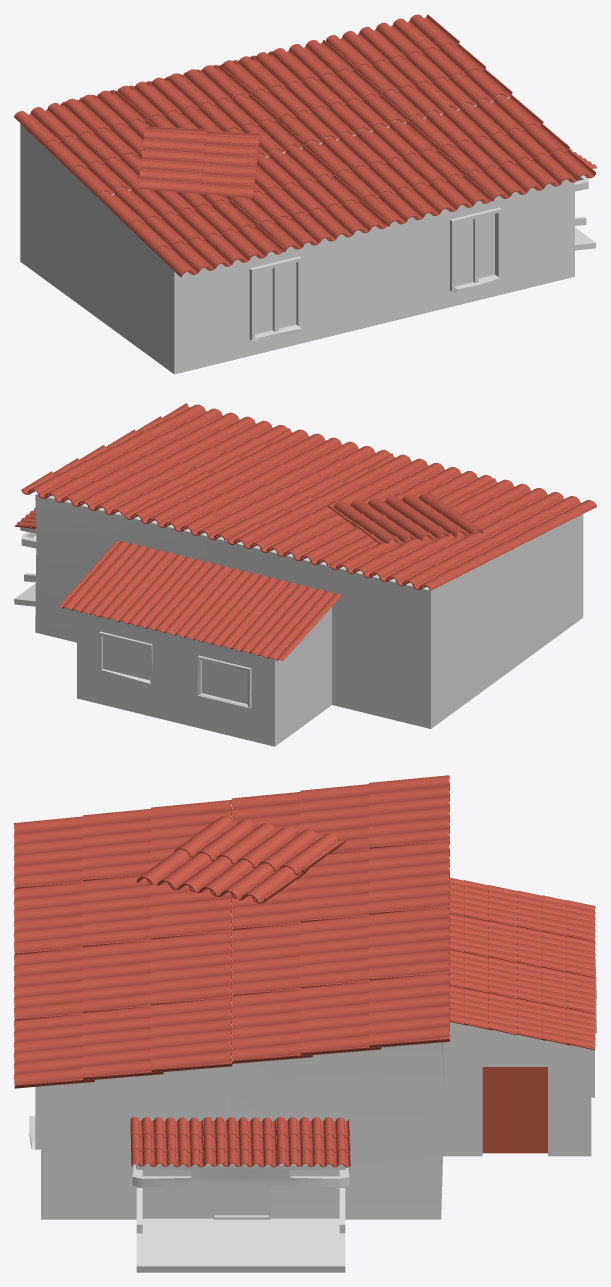
Rendered from Another house.fbx.
The picture shows the model from 3 angles, top to bottom: view 1: azimuth 30°, elevation 25°; view 2: azimuth 150°, elevation 25°; view 3: azimuth 270°, elevation 25°; orthographic projection. The views are drawn at different scales.
Visible parts, largest first — view 1: Roof.005; view 2: Roof.005; view 3: Roof.005.
Boxes of the visible parts, x1,y1,x2,y2 form: Roof.005: (14,14,596,374); Roof.005: (14,403,596,746); Roof.005: (14,775,596,1272).
Bounding box in the file's own units: 1386 × 459 × 1165.
